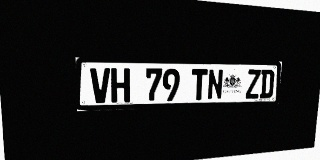7: (144, 68, 162, 102)
9: (162, 69, 180, 101)
D: (259, 69, 275, 98)
H: (111, 68, 130, 103)
N: (207, 69, 223, 100)
T: (191, 69, 208, 100)
V: (90, 68, 110, 103)
Z: (245, 69, 261, 99)
